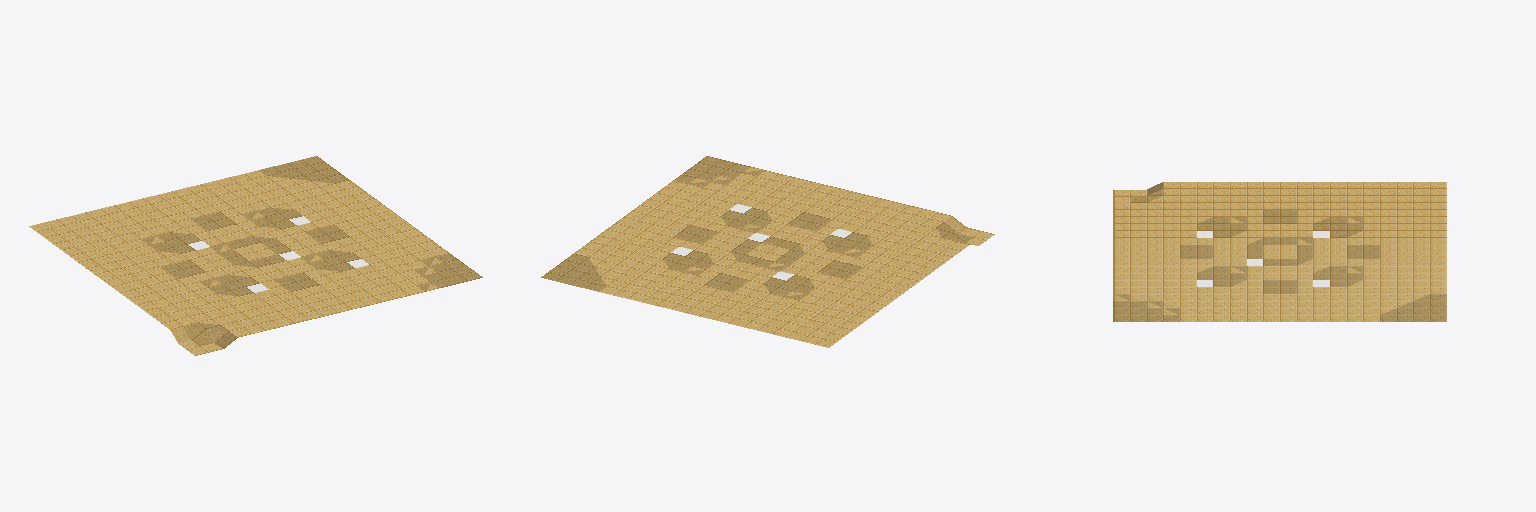
The picture shows the model from 3 angles: view 1: azimuth 30°, elevation 25°; view 2: azimuth 150°, elevation 25°; view 3: azimuth 270°, elevation 25°; orthographic projection.
Parts seen in each view (by area): view 1: FloorCentral_1; view 2: FloorCentral_1; view 3: FloorCentral_1.
Part boxes in pixels (x1,y1,x2,y2): FloorCentral_1: (29, 156, 482, 355); FloorCentral_1: (541, 156, 994, 347); FloorCentral_1: (1113, 182, 1446, 321).
Size of the model in its own units: 20 by 0.5291 by 20.
9 materials, 8 textured.